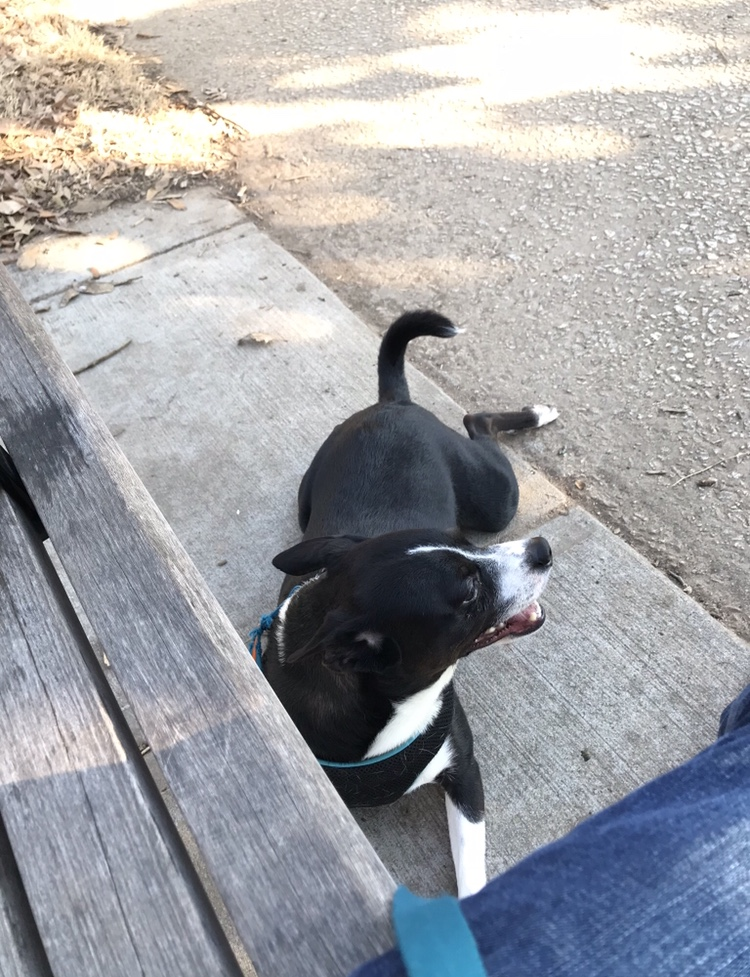Harley: (240, 281, 574, 832)
